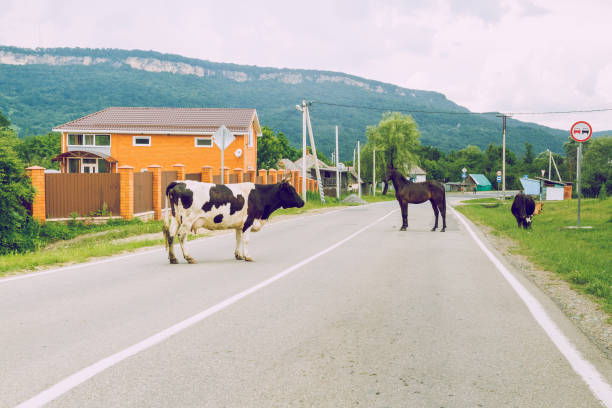inek: (152, 172, 321, 269), (510, 187, 539, 246)
